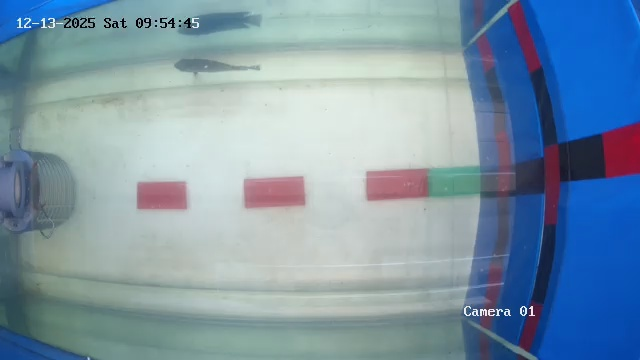fish: (163, 54, 272, 78)
